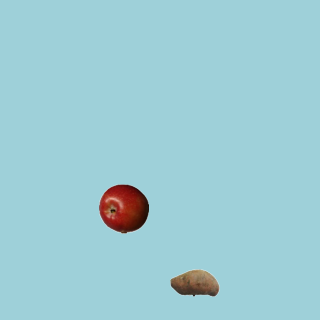Apple Braeburn: (98, 183, 148, 233)
Potato Sweet: (169, 257, 219, 307)
